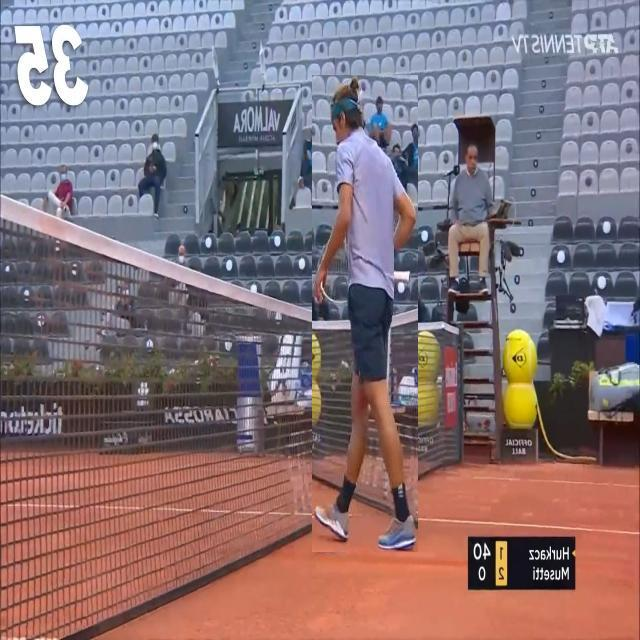player: (312, 76, 418, 554)
